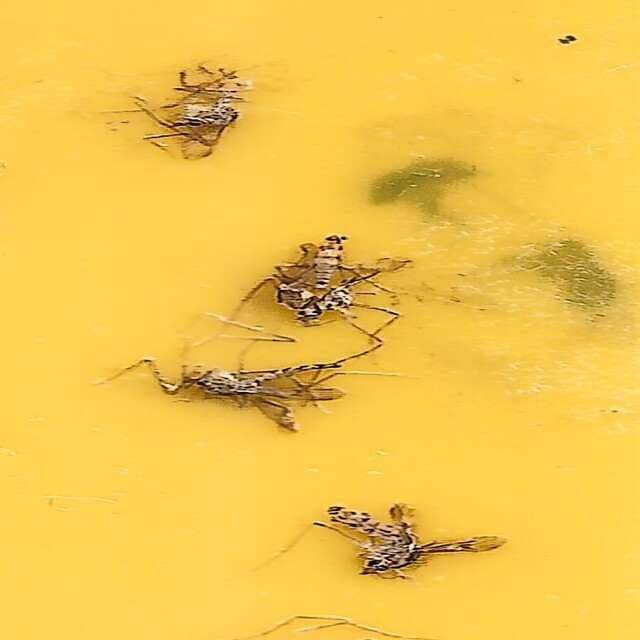Nematocera: (138, 351, 344, 426), (319, 501, 502, 576), (263, 232, 383, 328), (146, 64, 248, 160)
